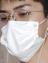with_mask: (1, 1, 48, 63)
